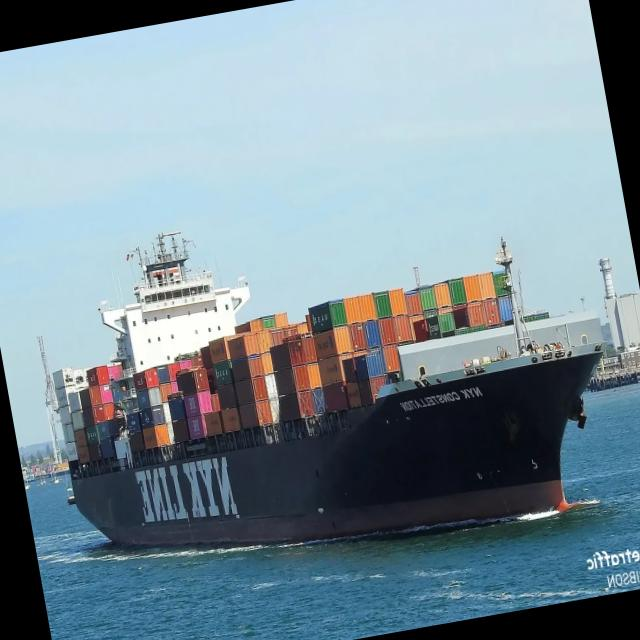Cargo: (55, 232, 603, 544)
